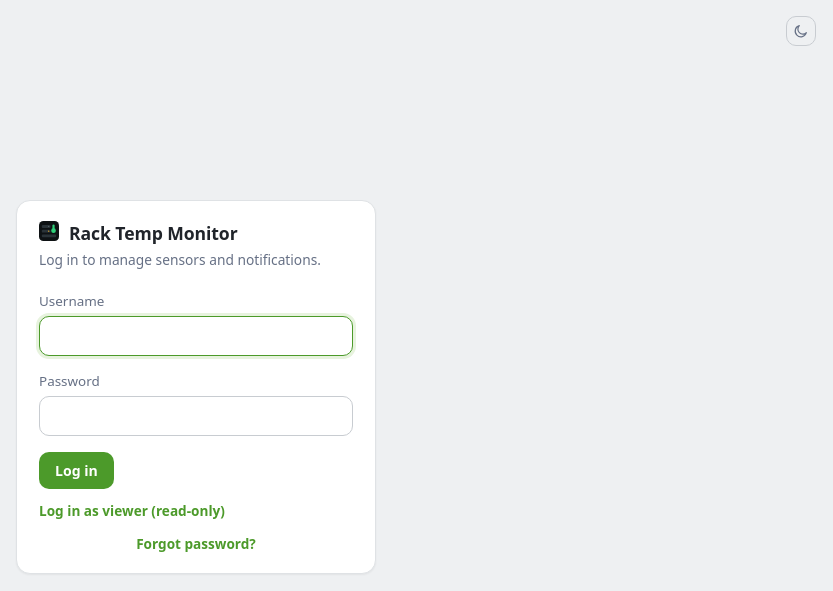
it: login › stays on the MFA step and shows the error on a wrong code
Type "admin1" into the field labelled "Username".
click(196, 336); type("admin1")  # box top-left (39, 316), bottom-right (353, 356)
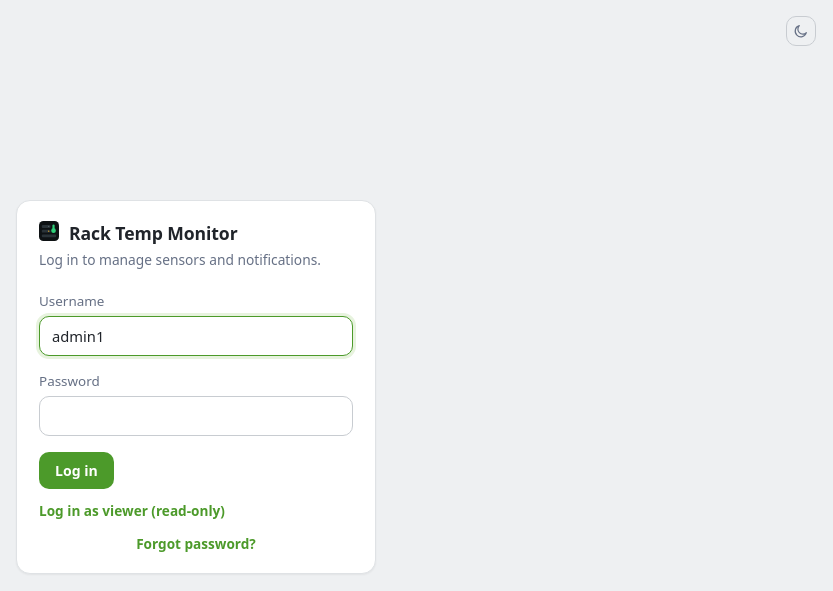
Type "correct-horse-battery" into the password field labelled "Password".
click(196, 416); type("correct-horse-battery")  # box top-left (39, 396), bottom-right (353, 436)
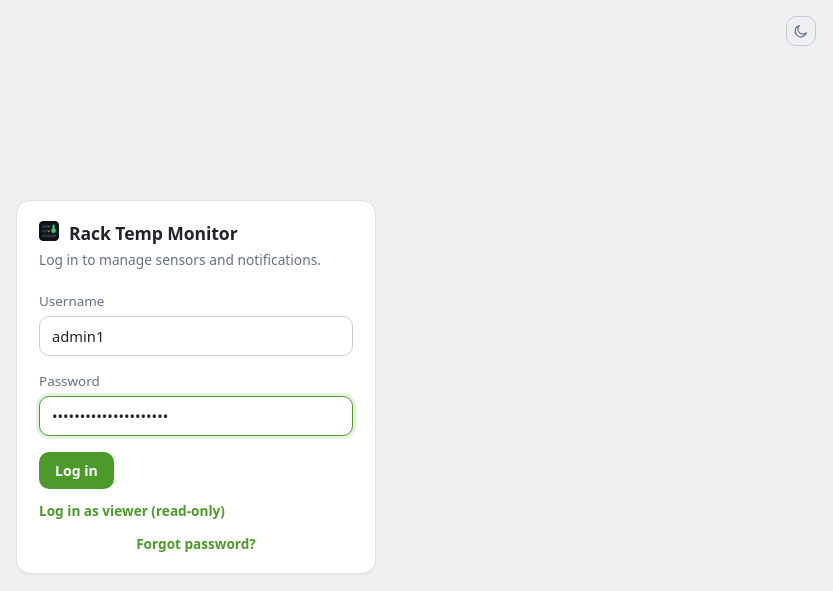
Click the button "Log in".
click(76, 471)  # box top-left (39, 452), bottom-right (114, 489)
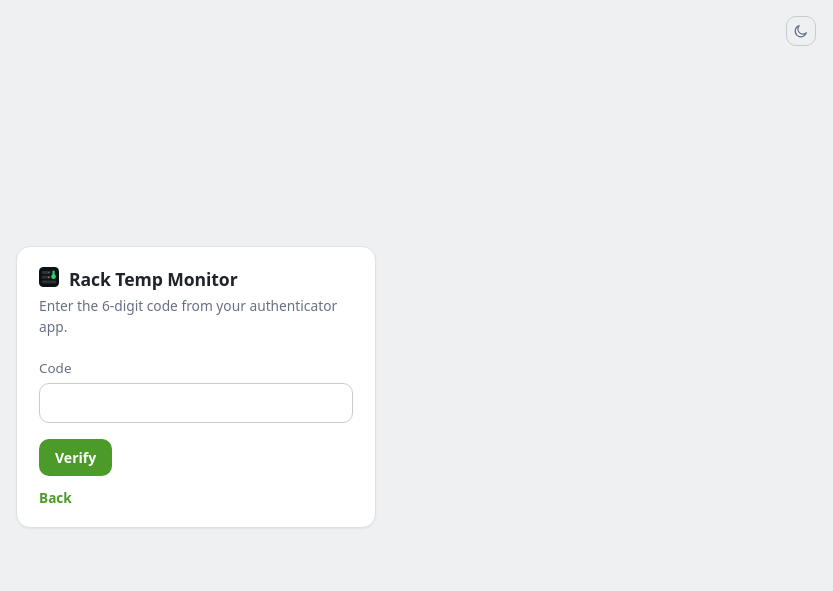
Type "000000" into the field labelled "Code".
click(196, 403); type("000000")  # box top-left (39, 383), bottom-right (353, 423)
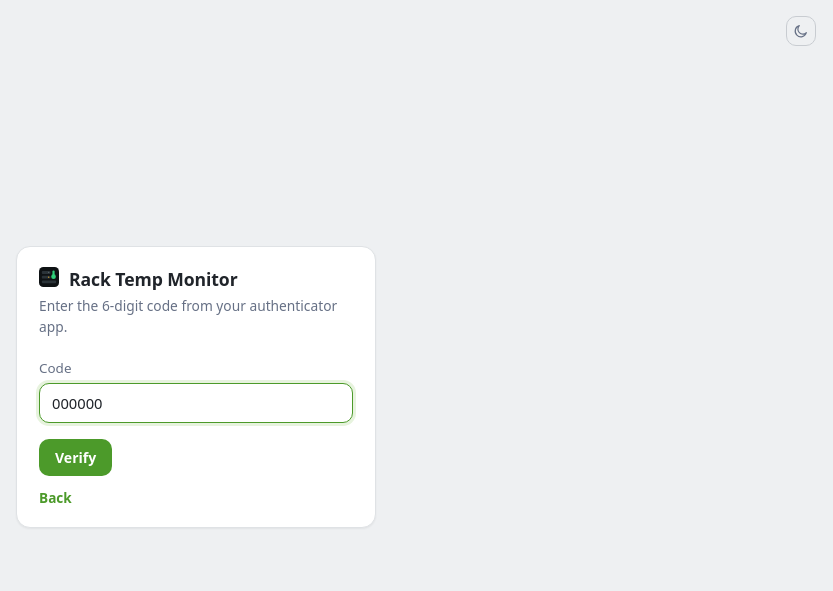
Click the button "Verify".
click(76, 458)  # box top-left (39, 439), bottom-right (112, 476)
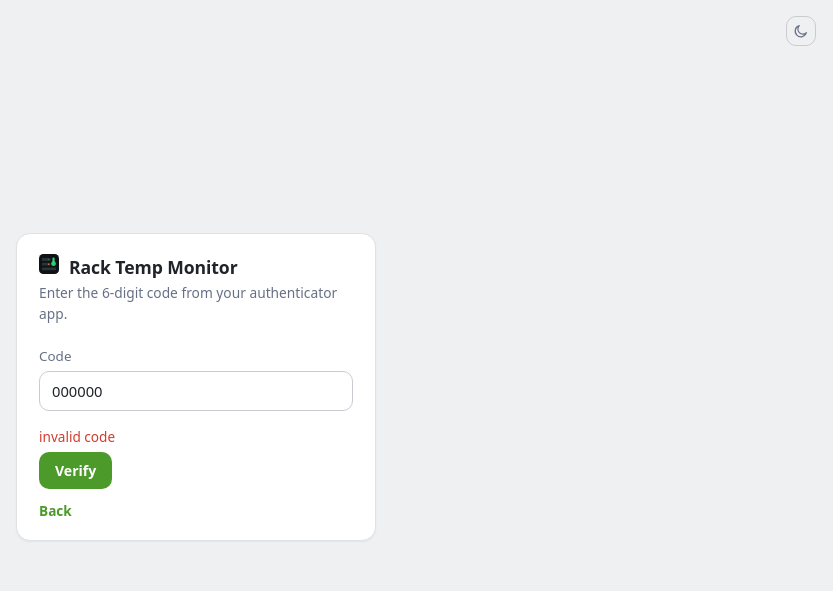
Now the text "invalid code" is shown, box top-left (39, 427), bottom-right (115, 446)
